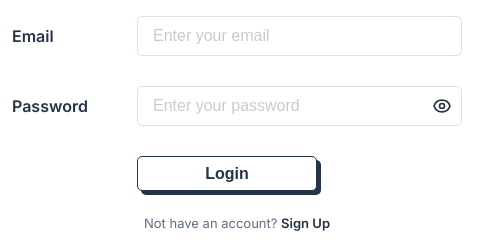
Scenario: login › should show email input
Click the field labelled "Email" at (300, 36), box [137,16,462,56]
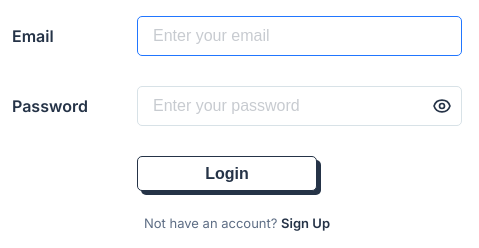
Type keys "abc@xyz.com"
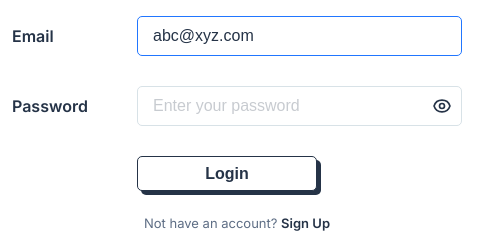
expect the field labelled "Email" holds "abc@xyz.com": met, box [137,16,462,56]
